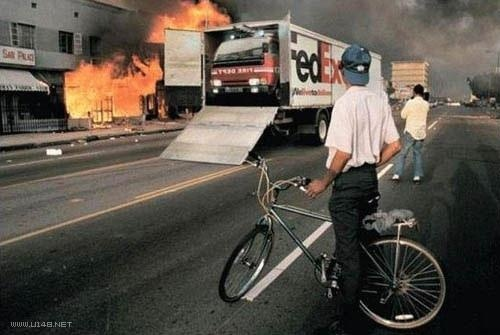fire: (60, 51, 169, 127), (151, 0, 231, 34)
